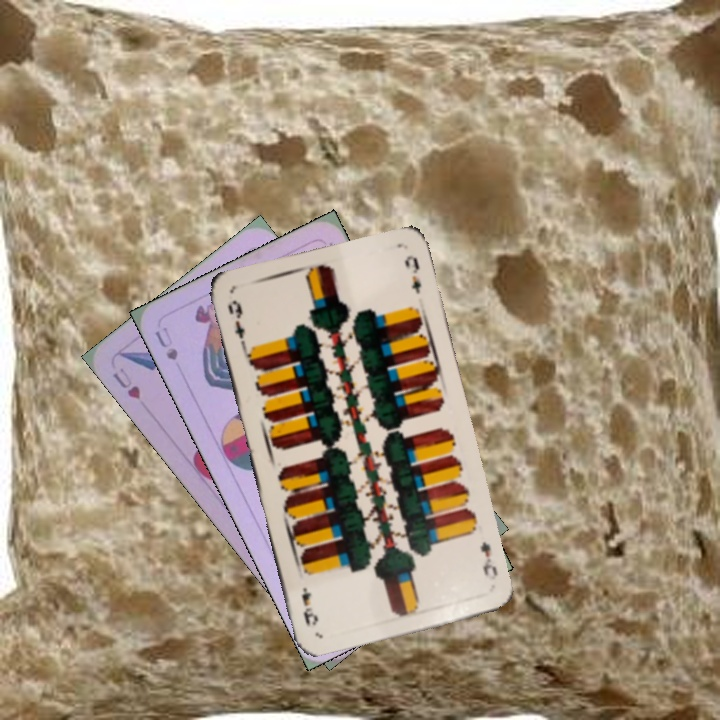E9: (224, 296, 249, 351), (476, 537, 501, 580)
HU: (108, 363, 144, 402)
SU: (150, 322, 181, 363)
